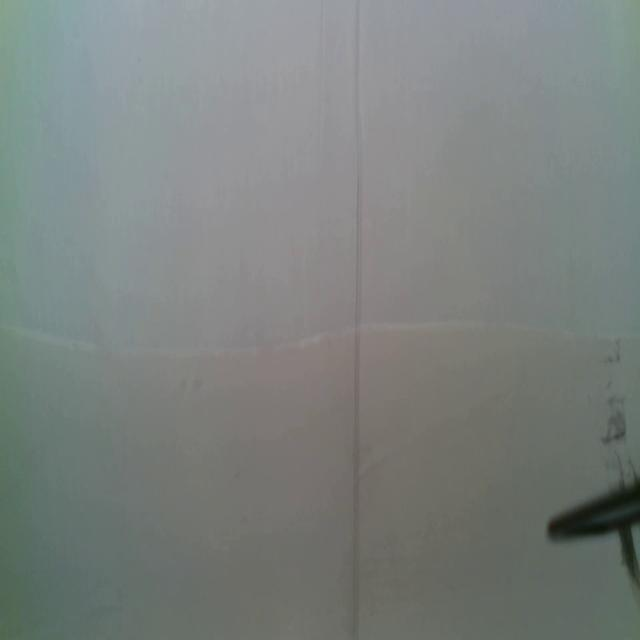crease: (350, 0, 364, 640), (317, 0, 327, 166)
